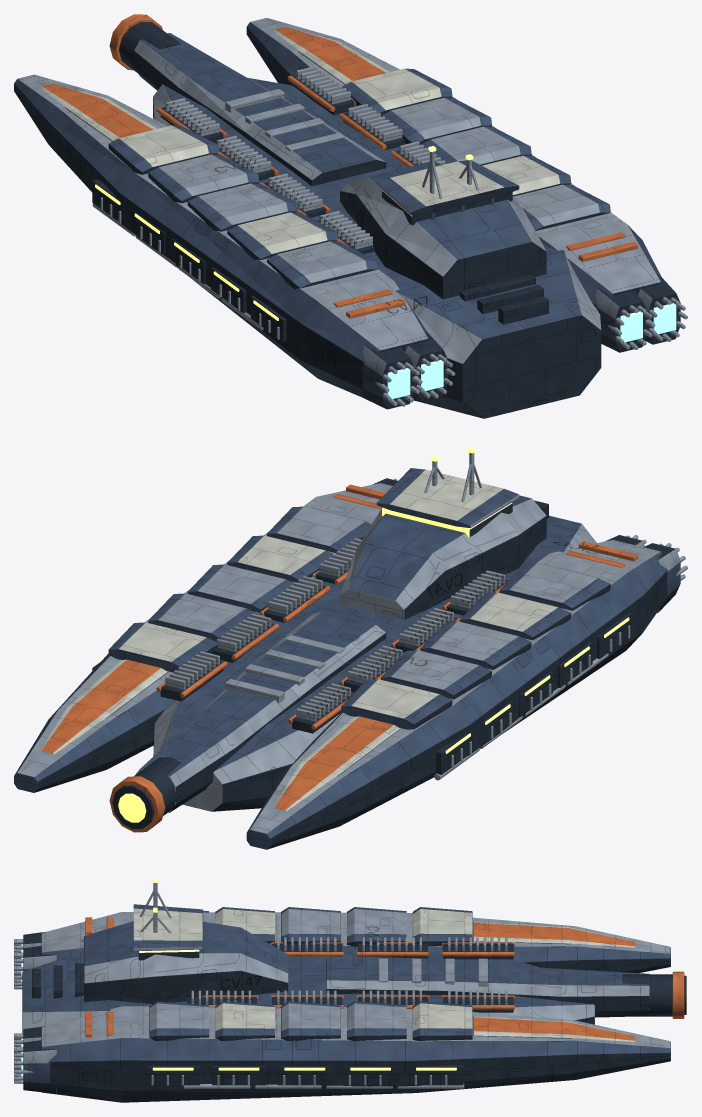
Rendered from mothership.glb.
The picture shows the model from 3 angles, top to bottom: view 1: azimuth 30°, elevation 25°; view 2: azimuth 150°, elevation 25°; view 3: azimuth 270°, elevation 25°; orthographic projection. The views are drawn at different scales.
Parts seen in each view (by area): view 1: Carrier; view 2: Carrier; view 3: Carrier.
Part boxes in pixels (x1,y1,x2,y2): Carrier: (14, 14, 687, 418); Carrier: (14, 447, 687, 849); Carrier: (14, 878, 687, 1102).
Bounding box in the file's own units: 14.24 × 8.27 × 28.37.
Materials: 7 (5 with a texture image).
